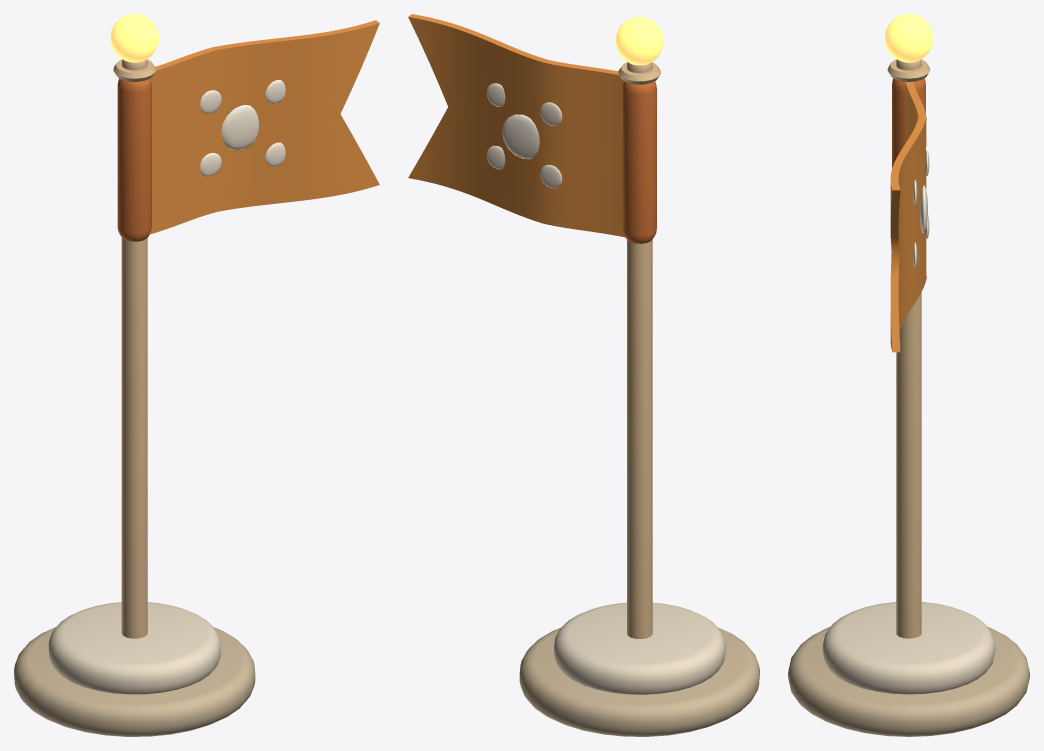
The model's file is goal_flag.glb.
The picture shows the model from 3 angles, left to right: view 1: azimuth 30°, elevation 25°; view 2: azimuth 150°, elevation 25°; view 3: azimuth 270°, elevation 25°; orthographic projection.
Parts seen in each view (by area): view 1: Flag, FlagPole; view 2: Flag, FlagPole; view 3: FlagPole, Flag.
Boxes of the visible parts, x1,y1,x2,y2 form: Flag: (117, 20, 379, 241); FlagPole: (14, 14, 255, 736); Flag: (408, 14, 656, 243); FlagPole: (519, 17, 759, 736); FlagPole: (788, 14, 1029, 736); Flag: (890, 78, 929, 352).
Size of the model in its own units: 1.37 by 2.59 by 0.84.
